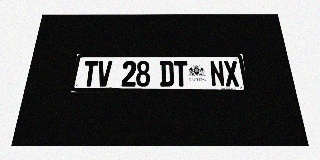2: (121, 61, 136, 86)
8: (136, 61, 150, 86)
D: (160, 61, 174, 86)
N: (209, 61, 226, 86)
T: (82, 61, 99, 86), (174, 61, 188, 86)
V: (96, 61, 112, 86)
X: (223, 61, 240, 86)
